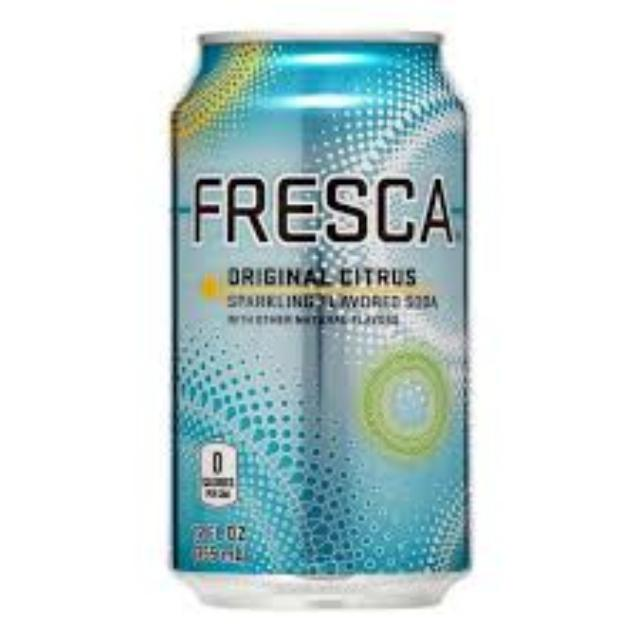metal: (171, 31, 464, 600)
